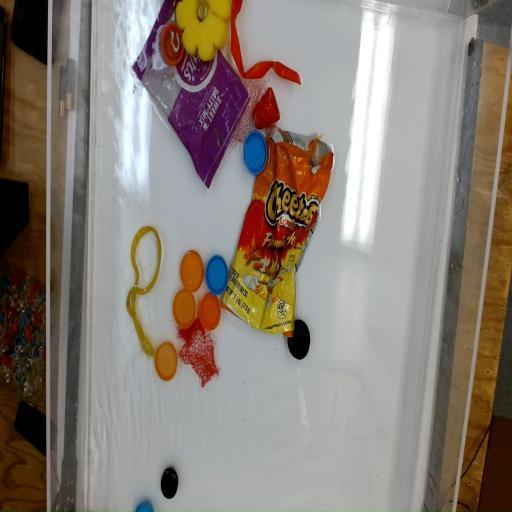Bottle Cap: (242, 128, 269, 174), (159, 24, 185, 68), (288, 318, 312, 362), (179, 250, 204, 292), (154, 341, 178, 384), (206, 254, 228, 296), (172, 288, 196, 326), (199, 293, 221, 332), (160, 468, 179, 500), (134, 502, 157, 512)
Cone Cap: (250, 88, 282, 128)
Netting: (226, 85, 278, 146), (176, 323, 220, 391)
Plastic Bag: (220, 122, 336, 342), (130, 0, 250, 189)
Plastic Strand: (229, 0, 300, 87), (126, 225, 162, 357)
Sponge: (174, 0, 232, 61)
